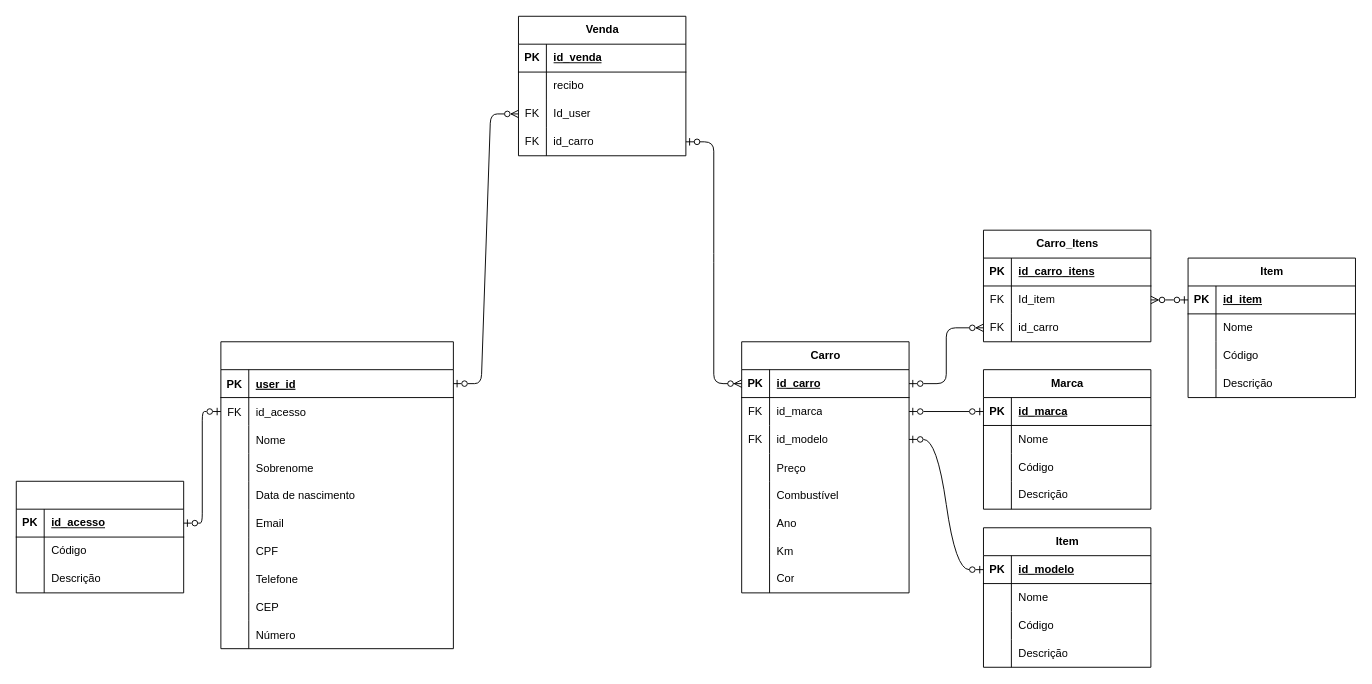
Some shapes in this 1372 by 684 pixel diagram are drawn without their labels. The shapes that lost their labels are listed below. From the top down, each one's box as (x1, y1, x2, y2) in pixels, then its label:
(220, 341, 453, 649): Usuário
(15, 480, 184, 593): Nível Acesso
